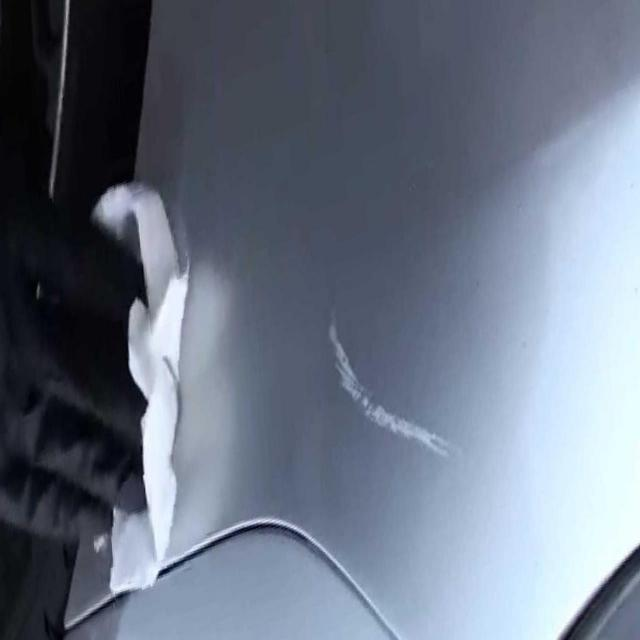scratch: (322, 318, 464, 469)
